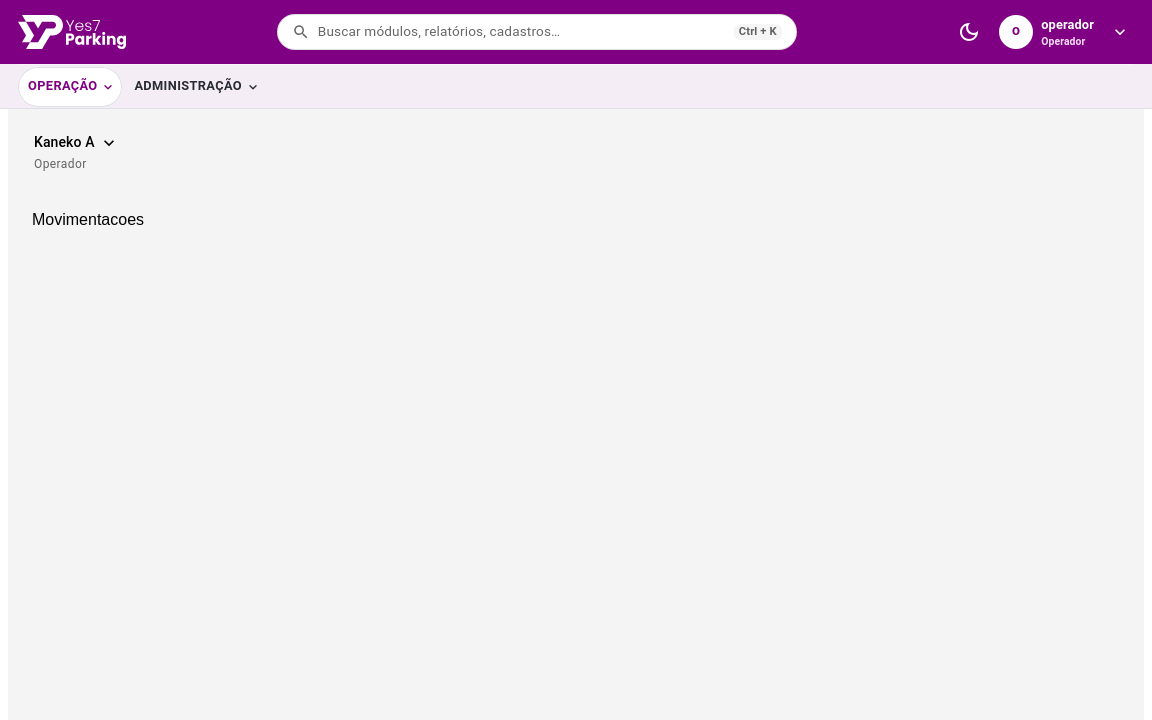
Test: AppLayout › dentro de um módulo mantém somente o menu superior, sem sidebar ou abas
The width and height of the screenshot is (1152, 720).
Check: the navigation bar named "Áreas da plataforma" is shown, box 18,65 -> 267,108
Check: the text "Movimentacoes" is shown, box 32,211 -> 144,228
Click the button named "yes7parking" at (72, 32), box 18,15 -> 126,49
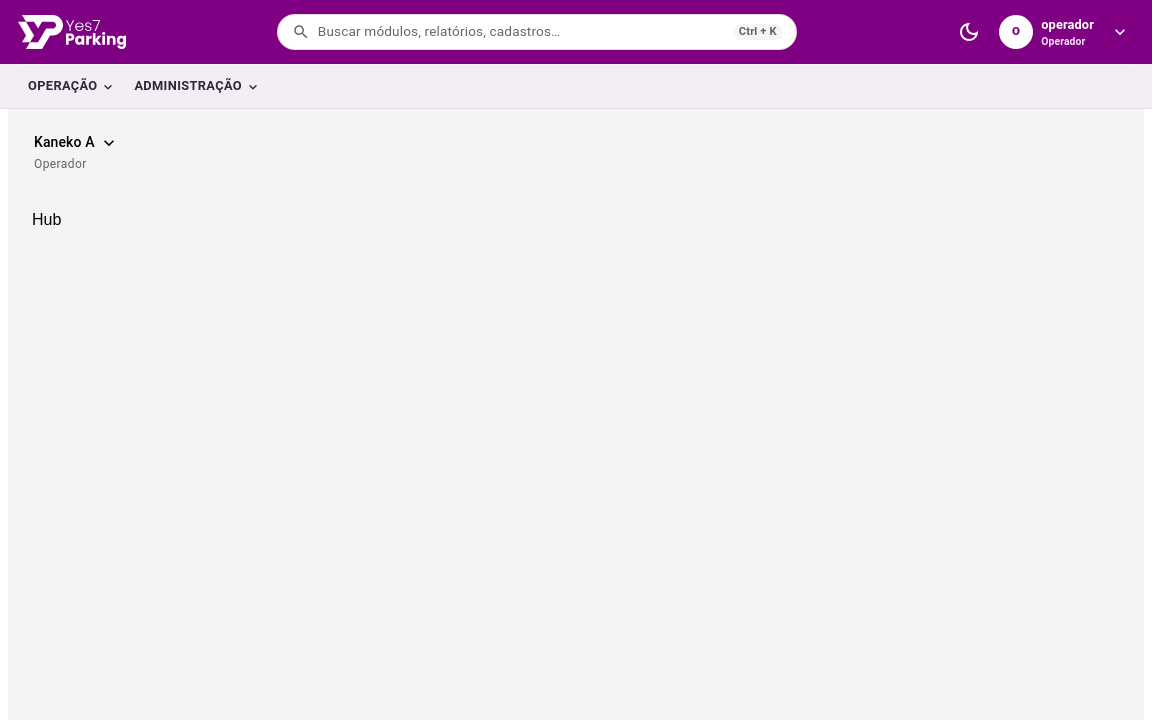
Check: the text "Hub" is shown, box 32,211 -> 61,228
